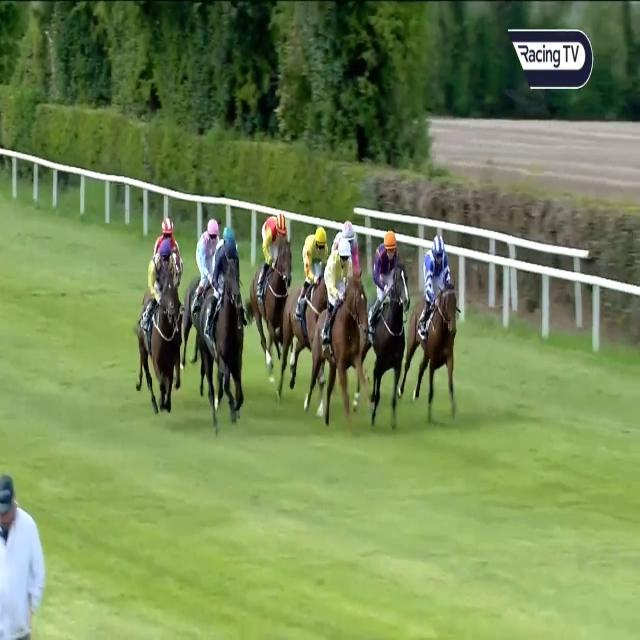horses-racing: (312, 244, 369, 431), (408, 230, 460, 420), (366, 228, 410, 420), (202, 224, 241, 426), (143, 247, 183, 415), (249, 206, 289, 360), (294, 221, 326, 374), (193, 209, 219, 298), (336, 218, 365, 276), (154, 210, 182, 266)
